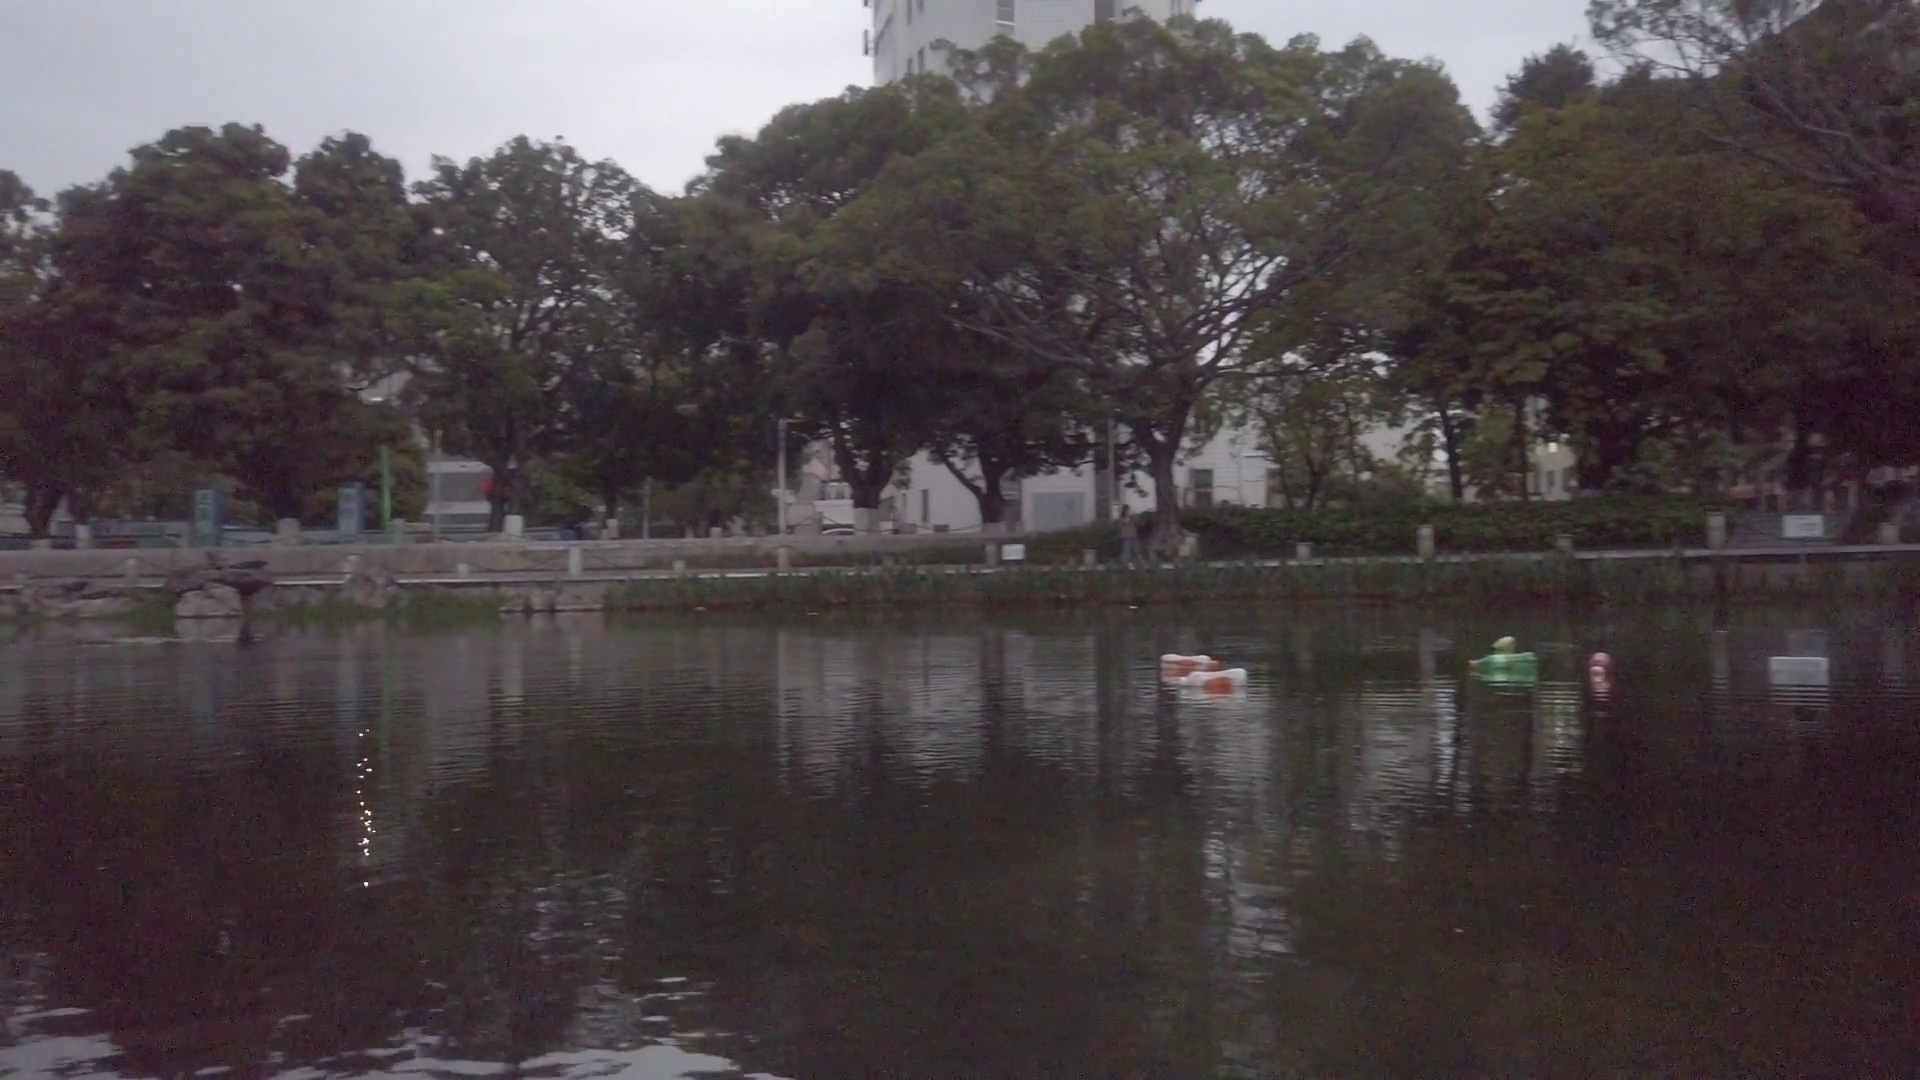bottle: (1466, 651, 1539, 673), (1178, 669, 1247, 688), (1158, 649, 1221, 669), (1590, 653, 1611, 680), (1489, 636, 1518, 655)
carton: (1771, 654, 1830, 675)
